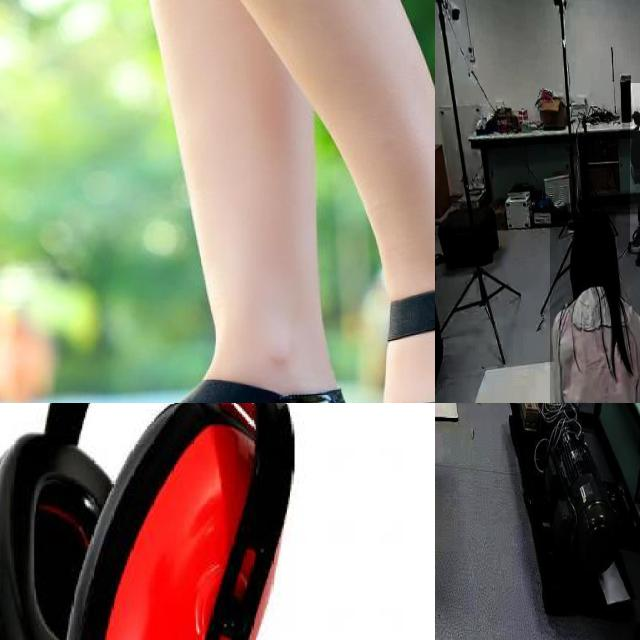Ear-protection: (0, 403, 296, 640)
Sandals: (21, 350, 357, 403)
head_nohelmet: (573, 211, 616, 252)
person: (550, 212, 640, 403), (630, 83, 640, 252)
